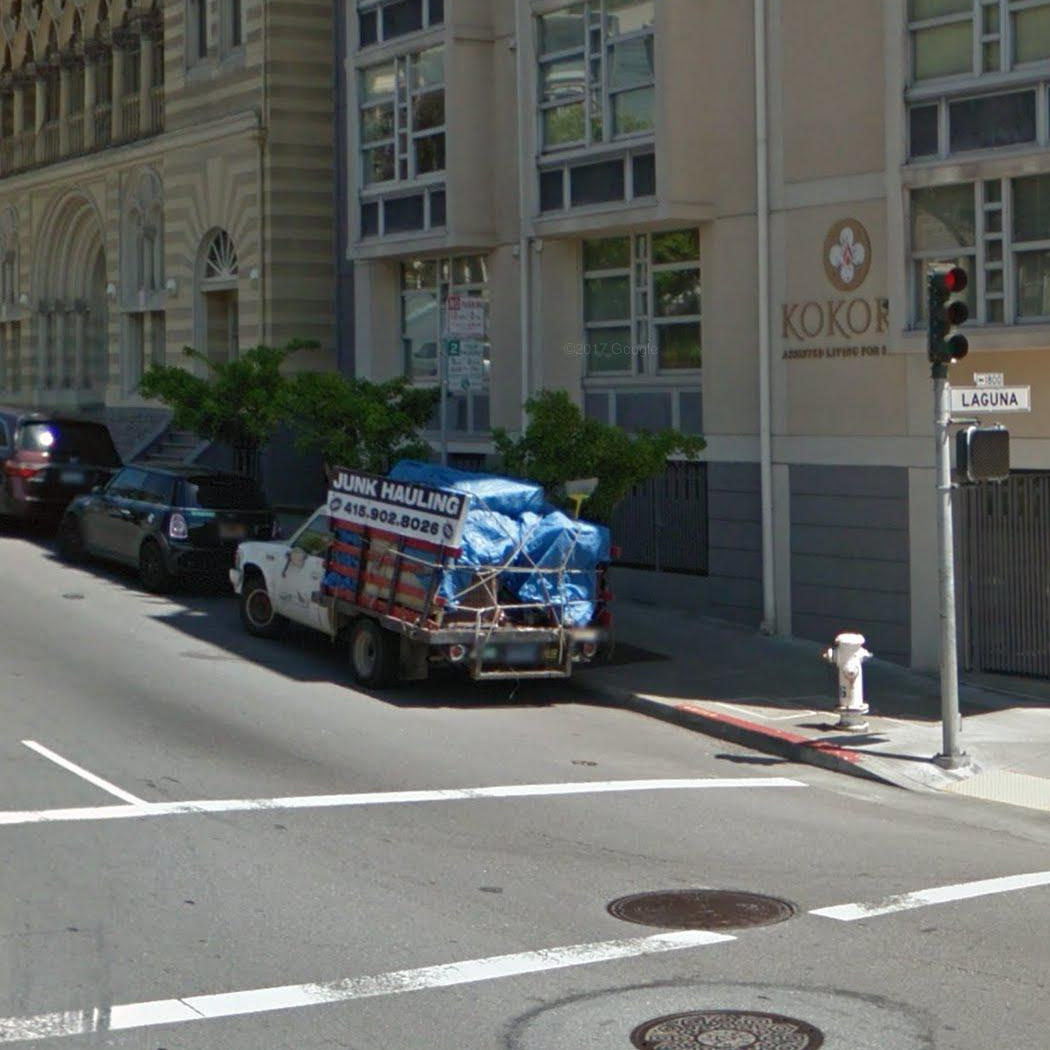2 Hour Parking: (447, 339, 484, 377)
No Parking: (447, 294, 484, 338)
